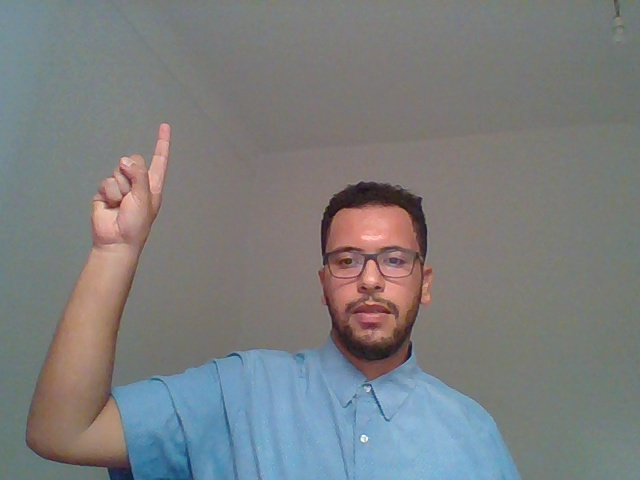handup: (38, 91, 190, 416)
